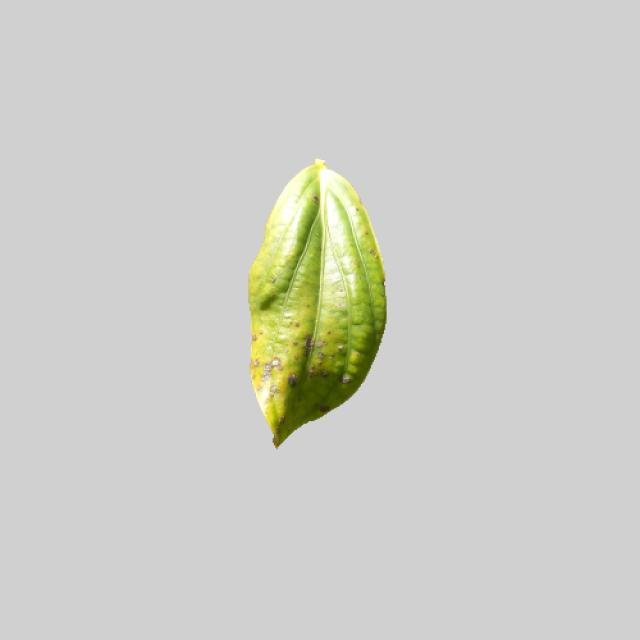yellow-mottle-virus: (244, 158, 388, 450)
